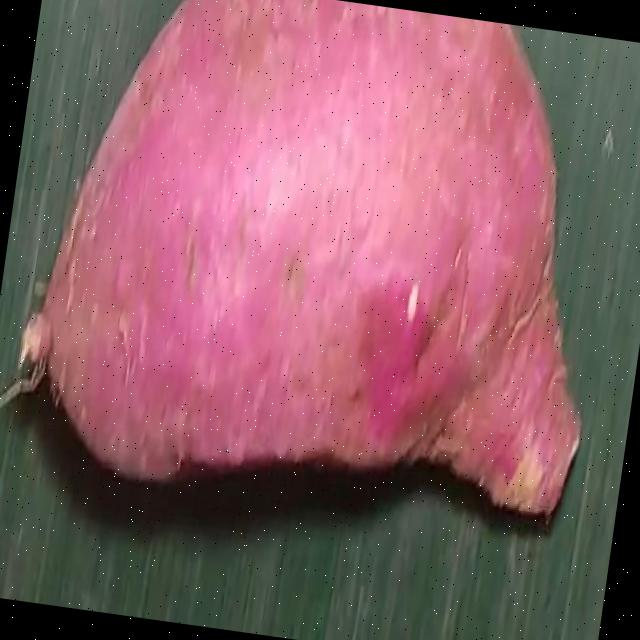Sweet Potato: (12, 0, 584, 520)
